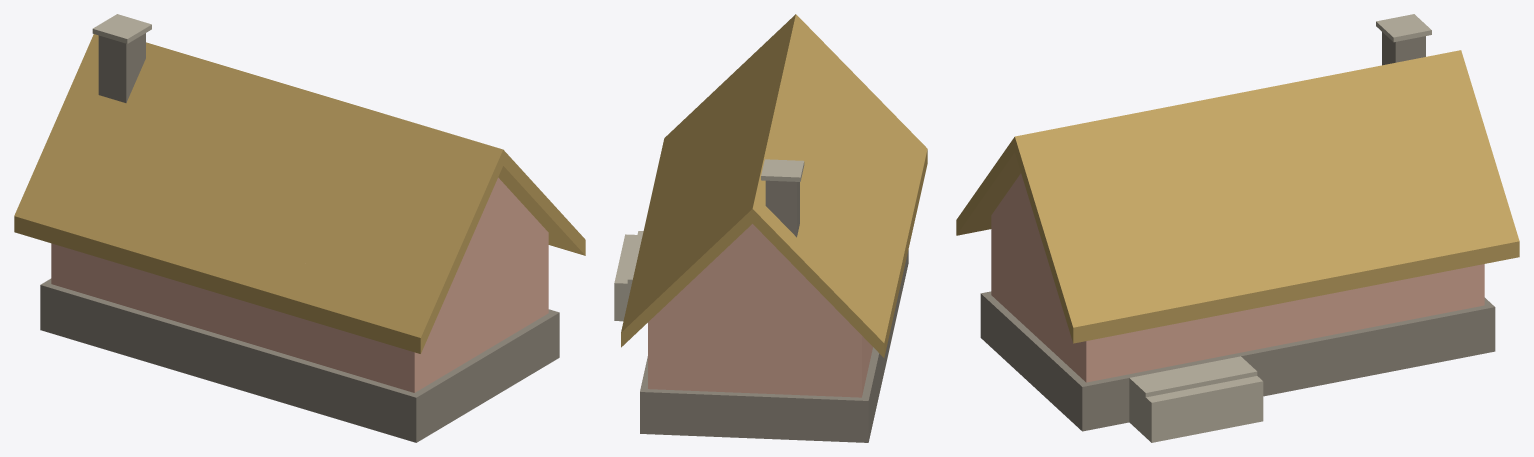
File: SM_FishersCove_House3.fbx
3 views of the same model, side by side, from view 1: azimuth 30°, elevation 25°; view 2: azimuth 150°, elevation 25°; view 3: azimuth 270°, elevation 25° (orthographic). The views are drawn at different scales.
Parts seen in each view (by area): view 1: SM_FishersCove_House3; view 2: SM_FishersCove_House3; view 3: SM_FishersCove_House3.
Boxes of the visible parts, left/top/right/bottom form: SM_FishersCove_House3: left=14, top=14, right=585, bottom=442; SM_FishersCove_House3: left=614, top=14, right=927, bottom=442; SM_FishersCove_House3: left=956, top=14, right=1519, bottom=442.
Bounding box in the file's own units: 10.55 × 6.9 × 12.85.
